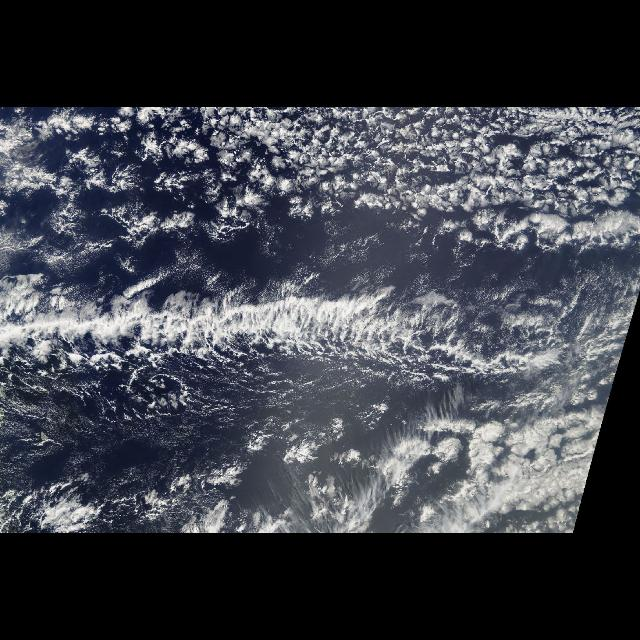Fish: (1, 231, 636, 427)
Flower: (135, 108, 640, 242)
Sugar: (14, 374, 366, 476), (179, 248, 487, 294), (495, 266, 639, 312)
